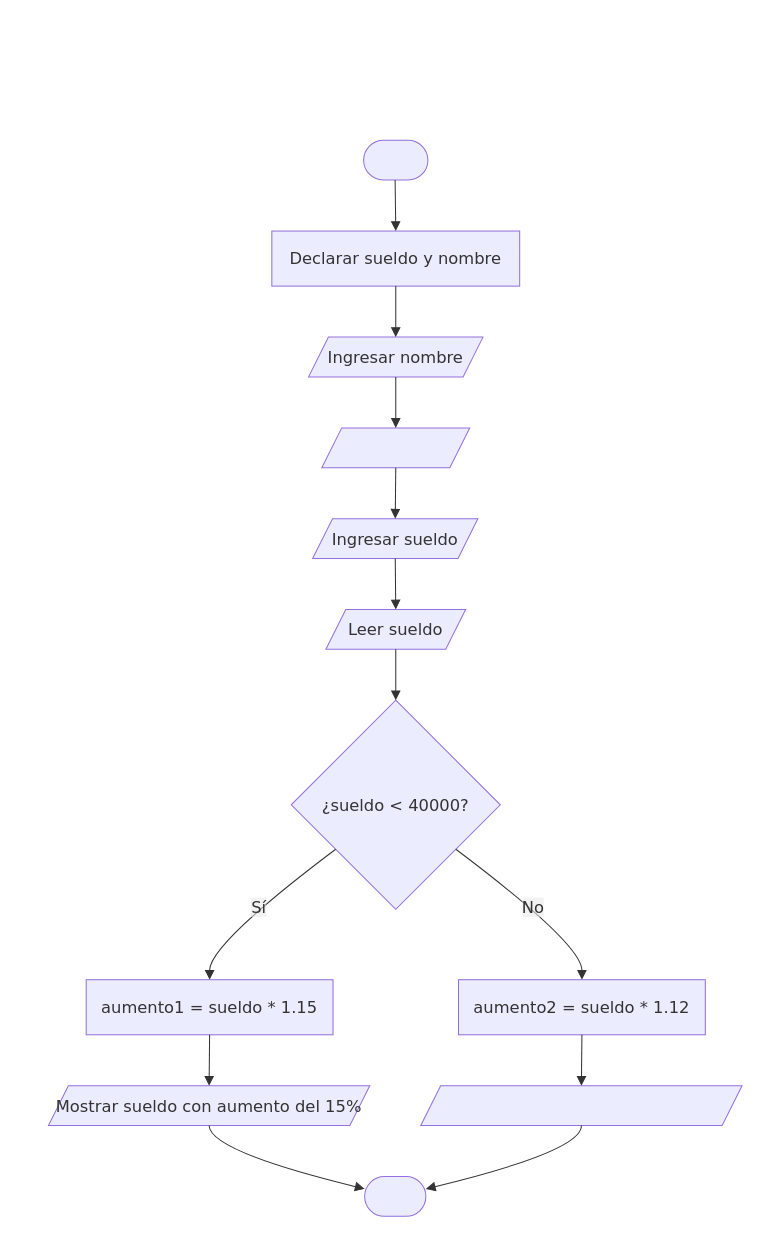
Some shapes in this 760 by 1234 pixel diagram are drawn without their labels. Here are the shapes that lost their labels. From the top down, the box of each, then its label:
(363, 139, 428, 180): Inicio
(321, 427, 470, 468): Leer nombre
(420, 1085, 742, 1126): Mostrar sueldo con aumento del 12%
(364, 1176, 426, 1216): Fin
